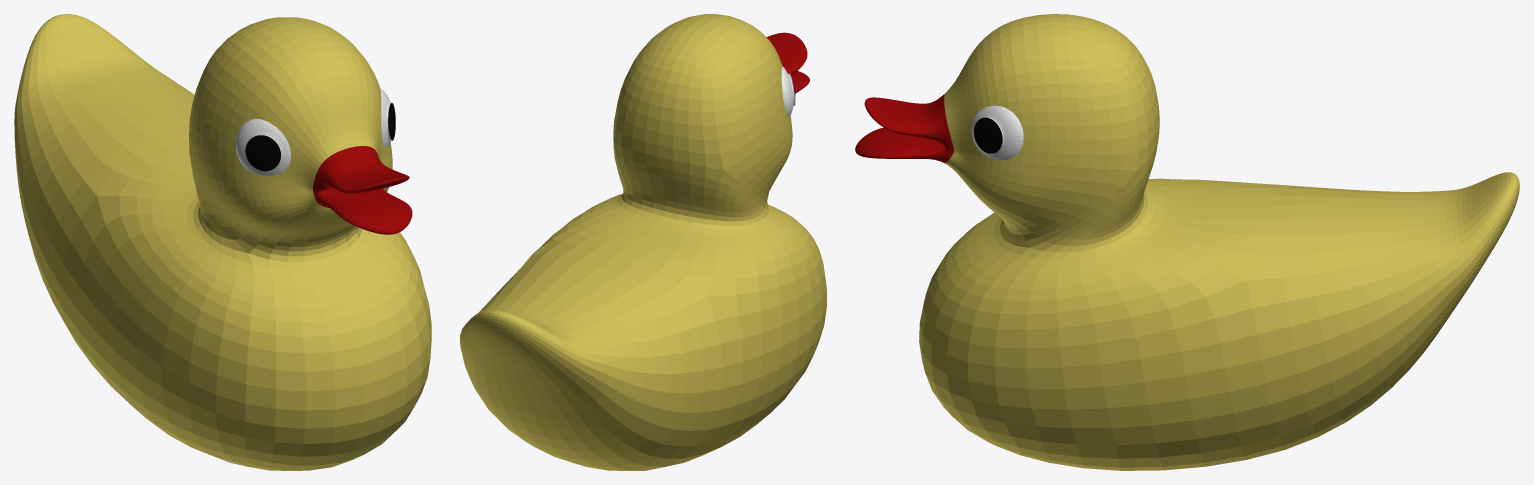
File: duck1.fbx
3 views of the same model, side by side, from view 1: azimuth 30°, elevation 25°; view 2: azimuth 150°, elevation 25°; view 3: azimuth 270°, elevation 25° (orthographic). The views are drawn at different scales.
Parts seen in each view (by area): view 1: ducky:DuckyBody, ducky:DuckyBodyBill, ducky:EyeEye1, ducky:EyeEye1Pupil; view 2: ducky:DuckyBody, ducky:DuckyBodyBill, ducky:EyeEye1; view 3: ducky:DuckyBody, ducky:DuckyBodyBill, ducky:EyeEye1, ducky:EyeEye1Pupil.
Boxes of the visible parts, x1=… form: ducky:DuckyBody: x1=14, y1=14, x2=431, y2=470; ducky:DuckyBodyBill: x1=313, y1=146, x2=412, y2=234; ducky:EyeEye1: x1=236, y1=88, x2=391, y2=175; ducky:EyeEye1Pupil: x1=245, y1=103, x2=395, y2=171; ducky:DuckyBody: x1=460, y1=14, x2=826, y2=470; ducky:DuckyBodyBill: x1=766, y1=32, x2=809, y2=93; ducky:EyeEye1: x1=781, y1=66, x2=795, y2=116; ducky:DuckyBody: x1=919, y1=14, x2=1519, y2=470; ducky:DuckyBodyBill: x1=855, y1=94, x2=953, y2=163; ducky:EyeEye1: x1=971, y1=105, x2=1023, y2=160; ducky:EyeEye1Pupil: x1=974, y1=117, x2=1002, y2=153.
Size of the model in its own units: 184 by 292 by 409.
